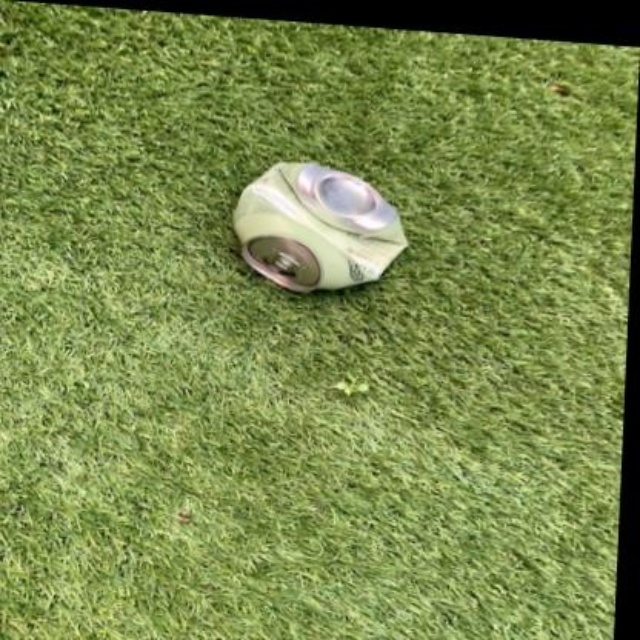trash: (234, 163, 406, 291)
